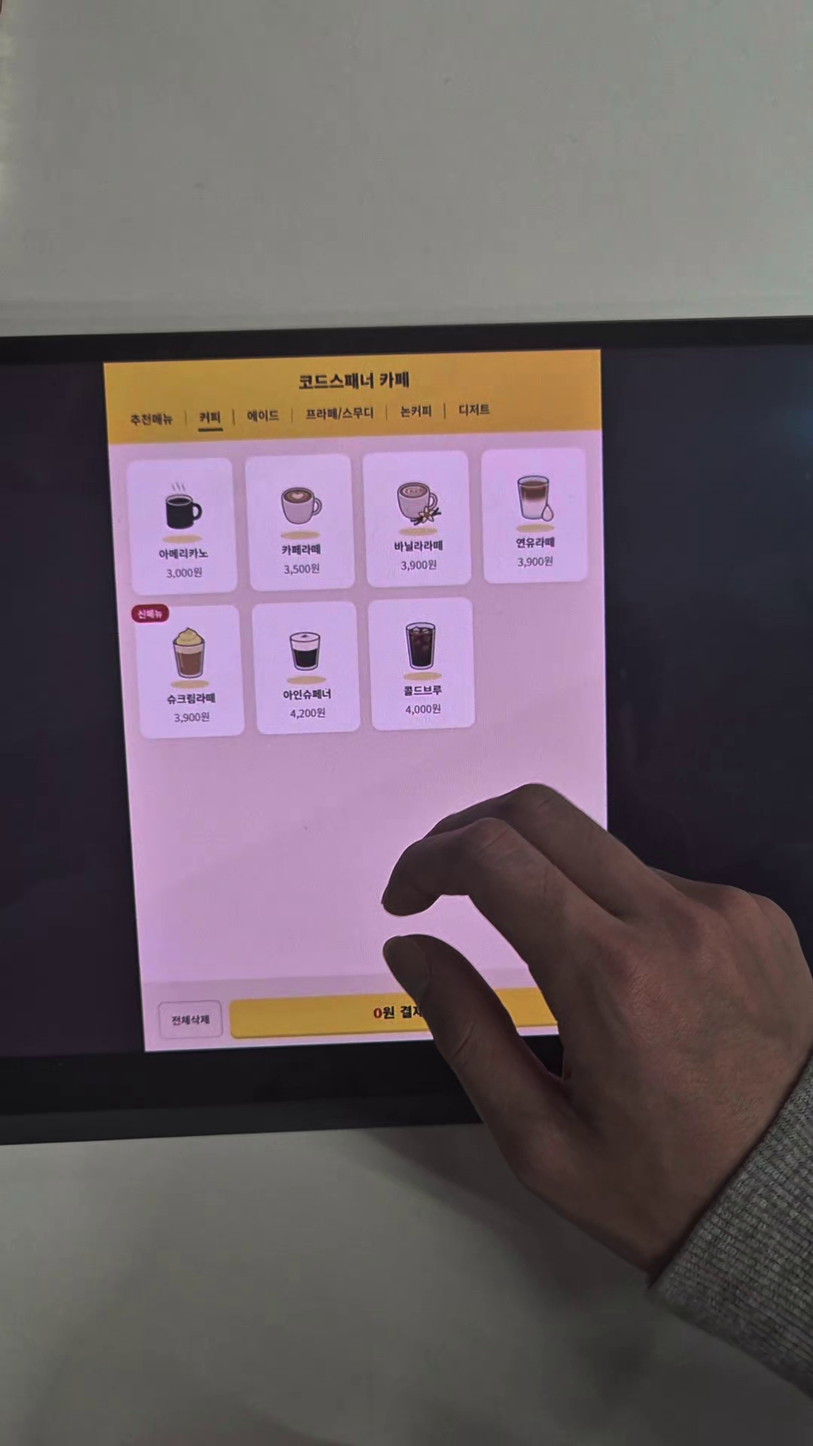action_button: (230, 985, 598, 1039), (160, 1000, 223, 1038)
category_tab: (303, 403, 380, 424), (127, 410, 175, 432), (245, 407, 281, 428), (399, 403, 437, 420), (456, 403, 491, 419), (196, 408, 222, 426)
menu_back: (127, 454, 236, 596), (135, 603, 245, 738), (482, 446, 588, 585), (252, 598, 360, 733), (366, 450, 472, 586), (247, 453, 353, 588), (372, 596, 477, 730)
menu_name: (390, 538, 447, 553), (280, 686, 334, 701), (155, 546, 211, 560), (278, 542, 324, 557), (401, 683, 446, 698), (166, 692, 215, 705), (513, 536, 556, 548)
menu_price: (162, 565, 206, 581), (170, 711, 210, 727), (511, 554, 559, 567), (402, 702, 441, 718), (396, 558, 439, 572), (287, 707, 330, 720), (280, 562, 321, 575)
